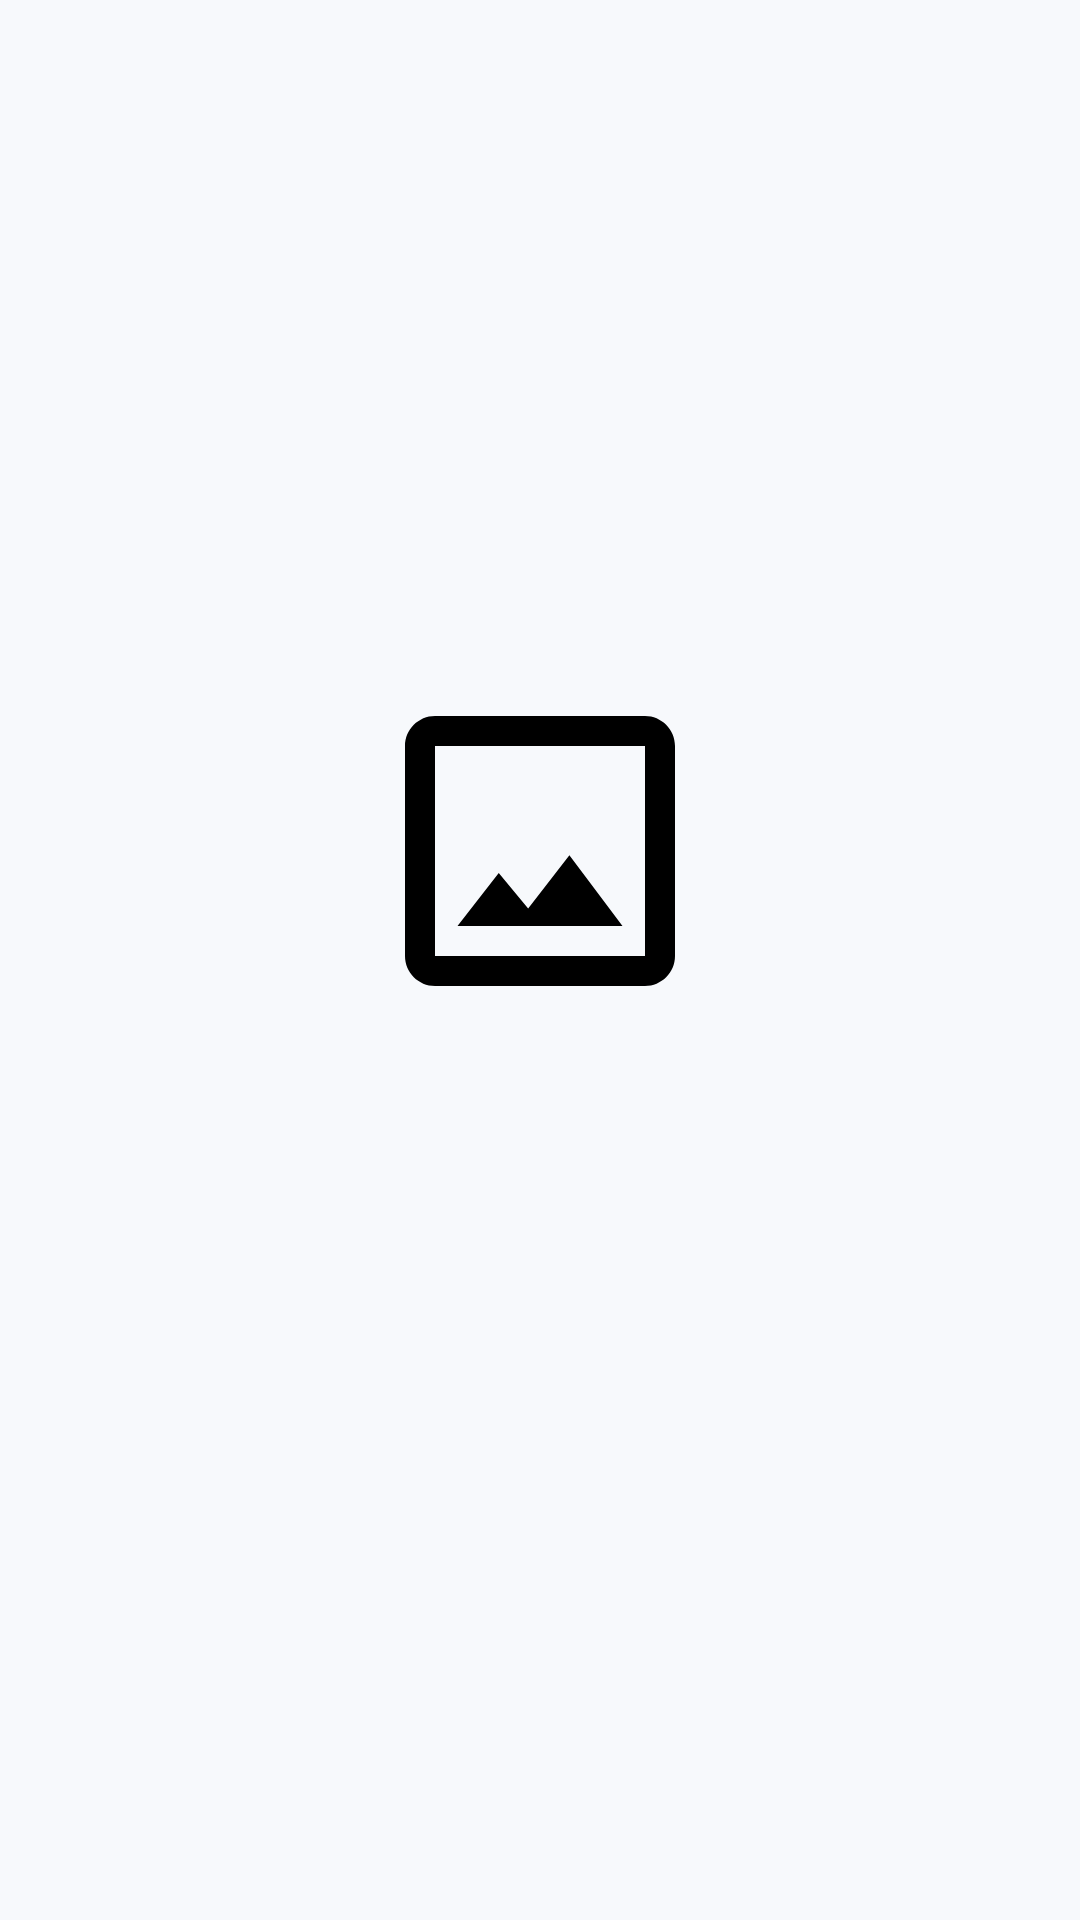

Icon click points for this 1080px×1920px phone screenshot, format (x,y):
gallery: (540,851)
